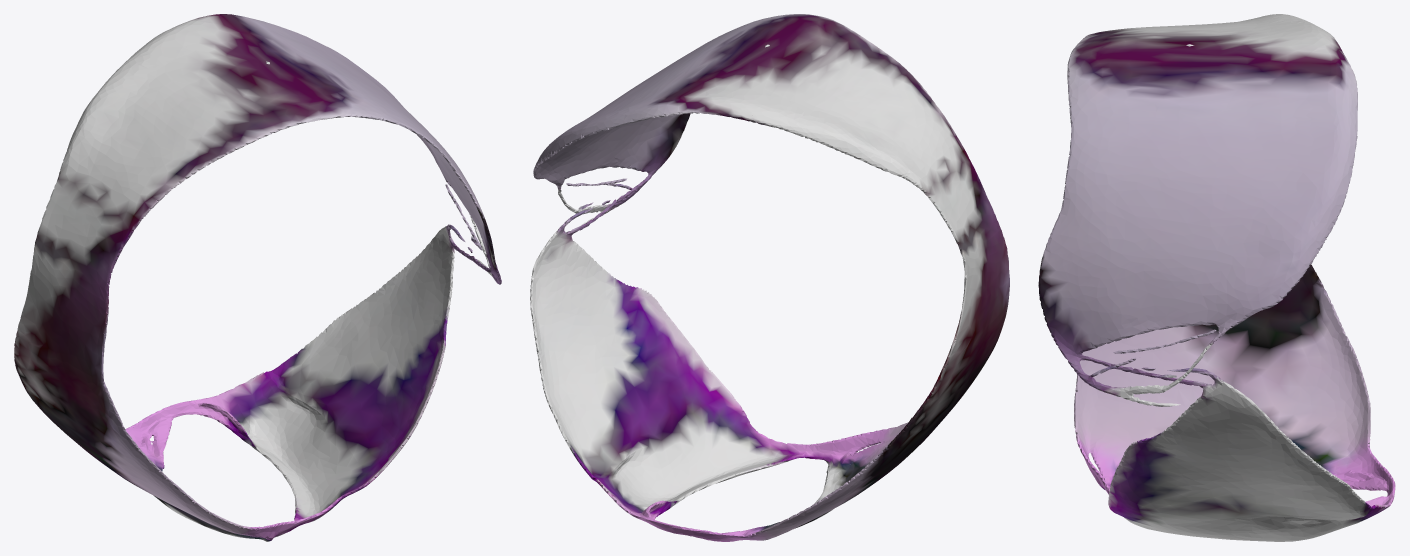
File: ring_ancient_magic.glb
The picture shows the model from 3 angles, left to right: view 1: azimuth 30°, elevation 25°; view 2: azimuth 150°, elevation 25°; view 3: azimuth 270°, elevation 25°; orthographic projection. The views are drawn at different scales.
Visible parts, largest first — view 1: geometry_0; view 2: geometry_0; view 3: geometry_0.
Boxes of the visible parts, x1,y1,x2,y2 form: geometry_0: [14, 14, 501, 541]; geometry_0: [530, 14, 1009, 541]; geometry_0: [1038, 14, 1395, 541].
Size of the model in its own units: 0.5938 by 0.5949 by 0.4081.
